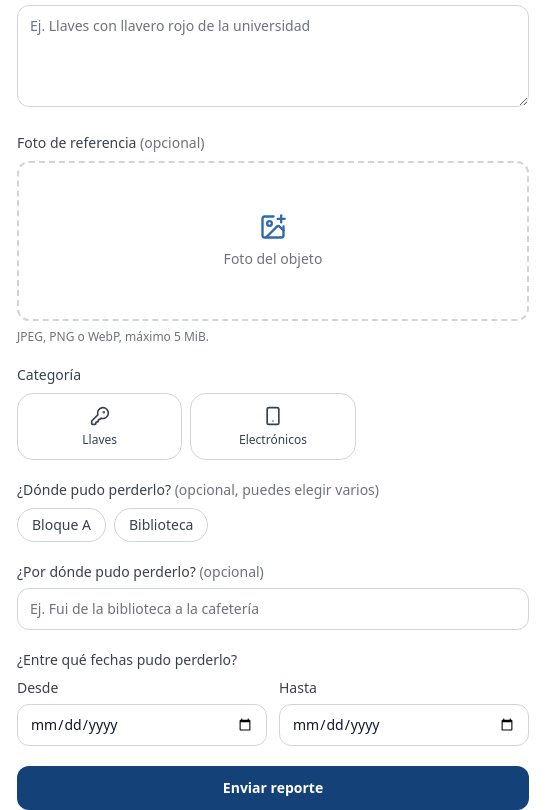
Datos obligatorios al enviar › no envía el reporte si falta la descripción, la categoría o el rango de fechas
(page scrolled)
Step 1. Click the button "Enviar reporte" → (273, 788), box [17,766,529,809]
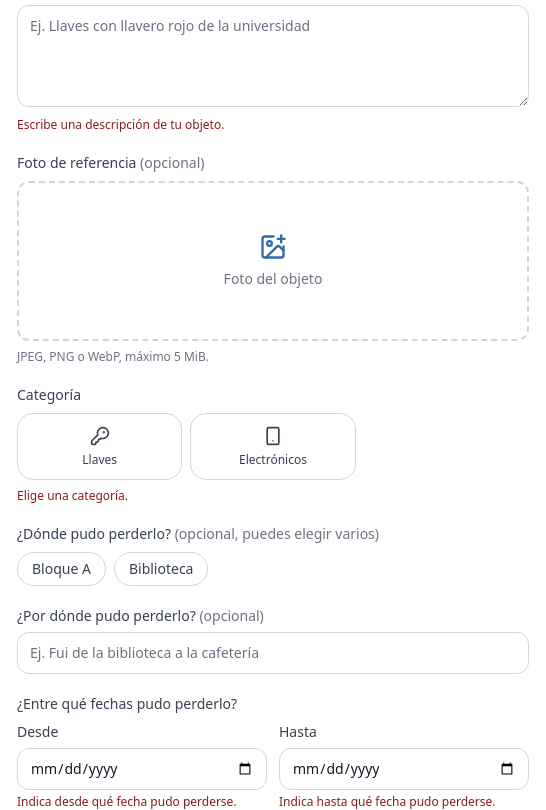
expect the text "Escribe una descripción de tu objeto." is shown: met, box [17,116,224,133]
expect the text "Elige una categoría." is shown: met, box [17,487,128,504]
expect the text "Indica desde qué fecha pudo perderse." is shown: met, box [17,794,267,809]
